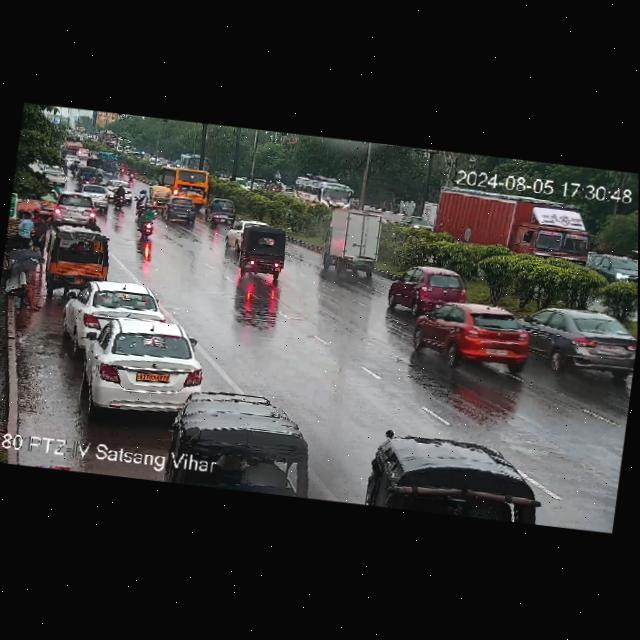bus: (288, 170, 356, 210), (154, 163, 214, 201), (179, 152, 212, 171)
car: (169, 386, 321, 498), (362, 434, 545, 525), (71, 313, 209, 423), (408, 296, 545, 375), (523, 300, 638, 380), (63, 276, 163, 345), (386, 262, 470, 318), (44, 227, 115, 291), (236, 225, 293, 279), (51, 192, 105, 231), (589, 249, 638, 284), (32, 160, 74, 186), (161, 196, 198, 225), (76, 182, 110, 210), (207, 197, 241, 224), (223, 219, 243, 250), (148, 185, 175, 207), (105, 178, 132, 196), (75, 165, 98, 182), (85, 155, 99, 167)
motorcycle: (134, 206, 158, 238), (107, 184, 131, 211), (205, 199, 222, 226), (136, 189, 153, 213)
person: (0, 258, 44, 311), (13, 209, 37, 250), (30, 212, 50, 258)
truck: (417, 185, 598, 270), (323, 208, 383, 280), (96, 129, 119, 149), (100, 152, 120, 170), (129, 163, 138, 182)
